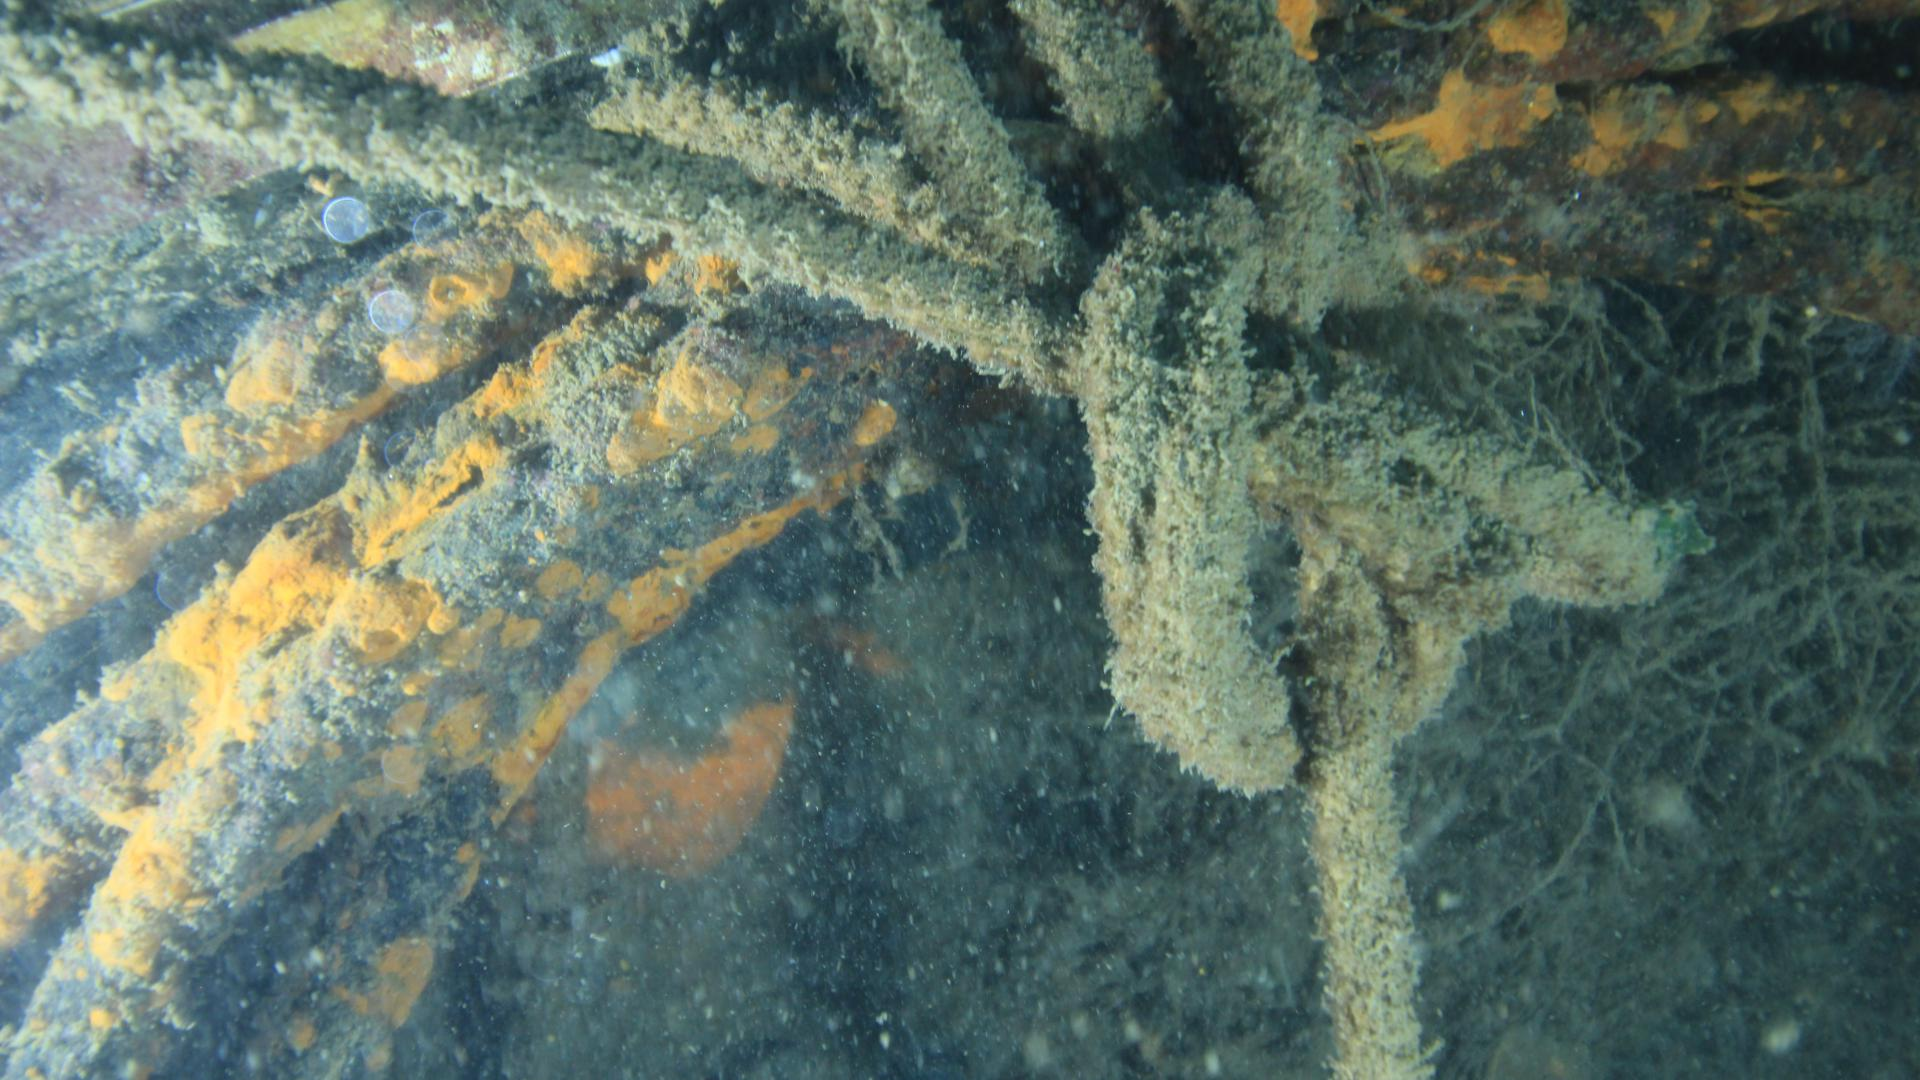bundle of ropes: (0, 1, 1683, 1080)
